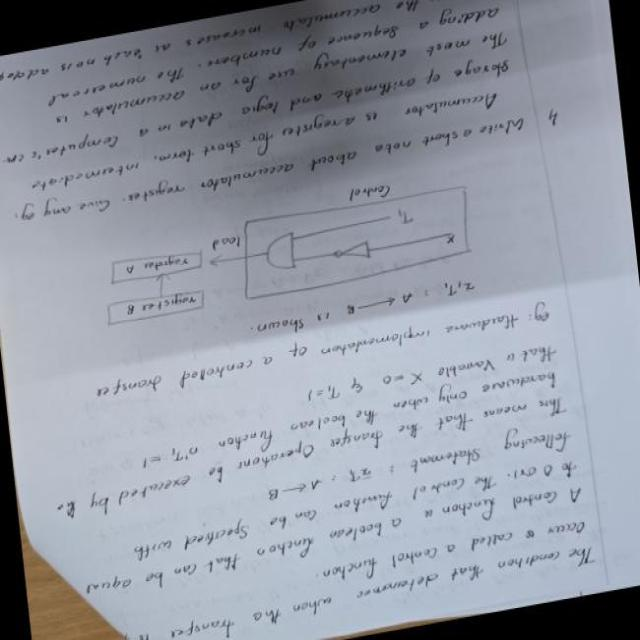Figure Detection - v3 Dataset Version2: (79, 155, 496, 339)
